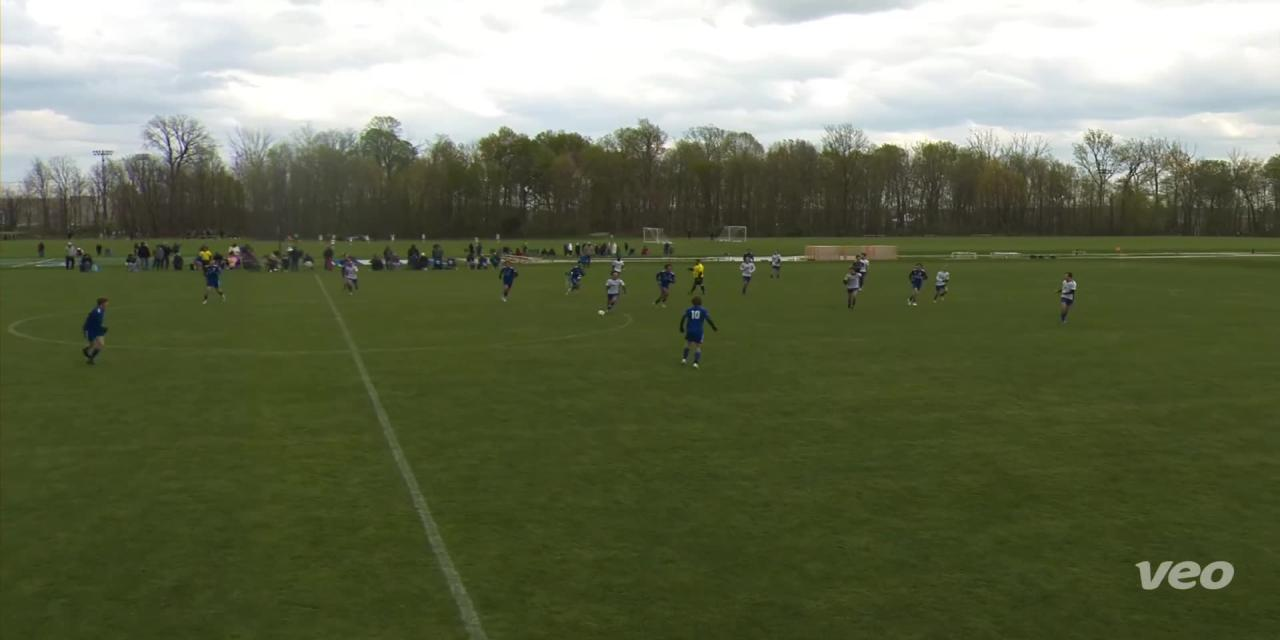sports ball: (589, 303, 617, 322)
